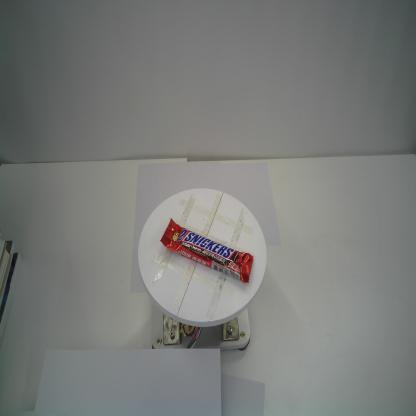Chocolate: (160, 216, 255, 287)
